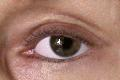eye: (51, 35, 81, 55)
